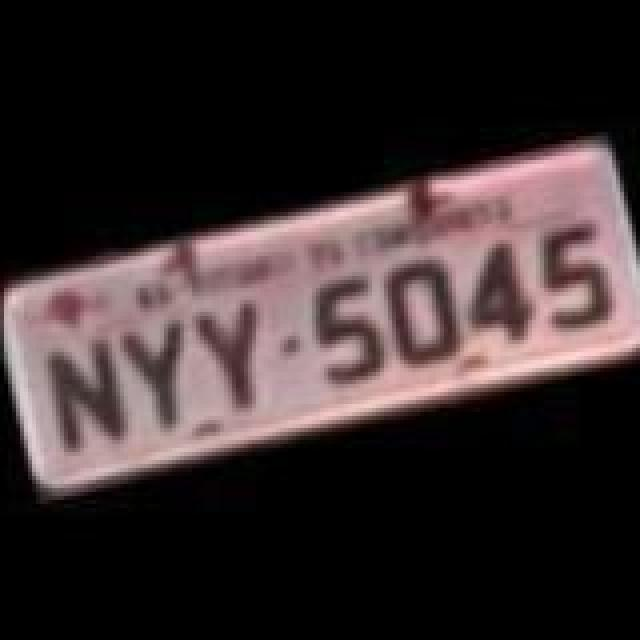4: (450, 230, 546, 350)
5: (522, 212, 618, 332), (298, 274, 394, 394)
N: (40, 328, 136, 456)
O: (378, 258, 466, 366)
Y: (110, 308, 198, 432), (190, 294, 278, 418)
